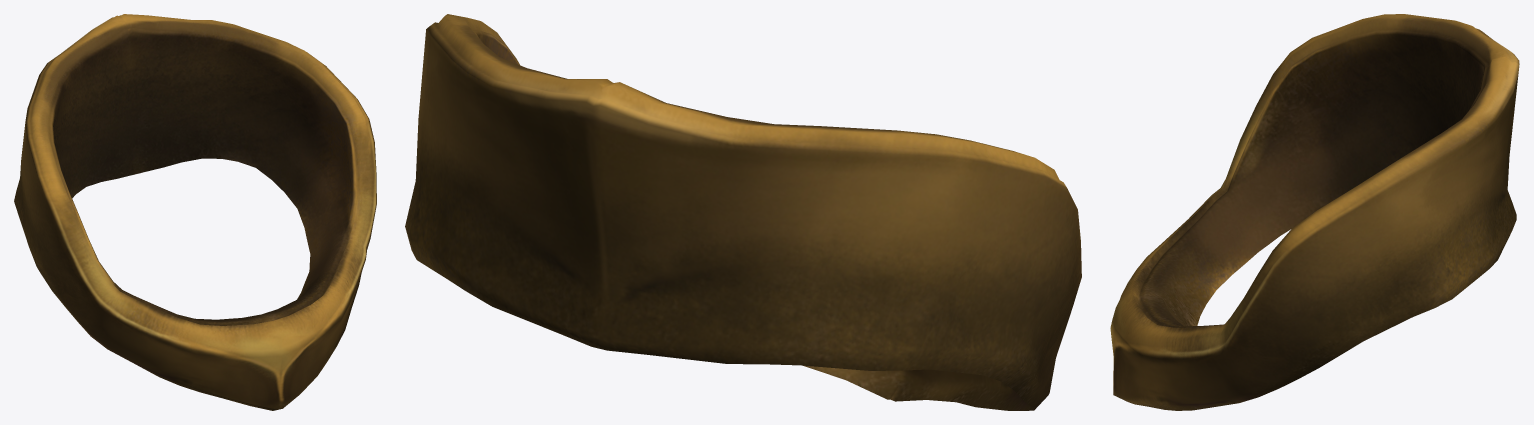
File: sm_human_dhodin_chest_add.gltf
The picture shows the model from 3 angles, left to right: view 1: azimuth 30°, elevation 25°; view 2: azimuth 150°, elevation 25°; view 3: azimuth 270°, elevation 25°; orthographic projection. The views are drawn at different scales.
Visible parts, largest first — view 1: sm_human_dhodin_chest_add; view 2: sm_human_dhodin_chest_add; view 3: sm_human_dhodin_chest_add.
Part boxes in pixels (x1,y1,x2,y2): sm_human_dhodin_chest_add: (14,14,376,410); sm_human_dhodin_chest_add: (405,14,1081,410); sm_human_dhodin_chest_add: (1110,14,1519,410).
Bounding box in the file's own units: 21.48 × 17.89 × 19.19.
1 material, 1 textured.
